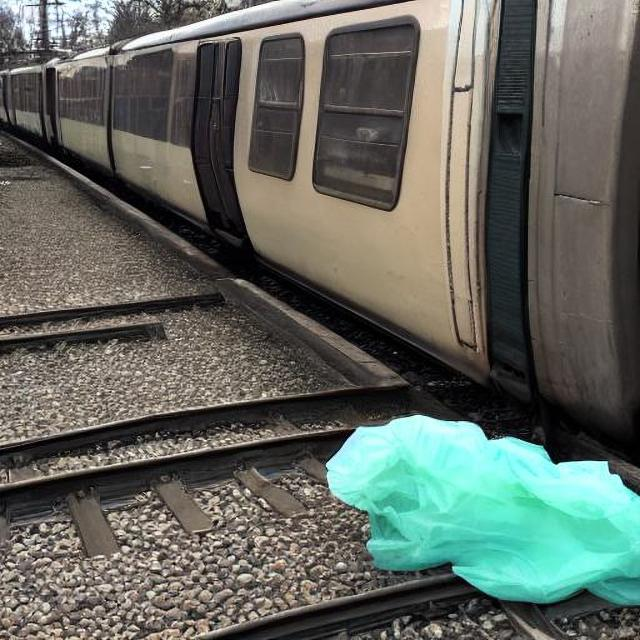plastic bag: (327, 416, 637, 600)
